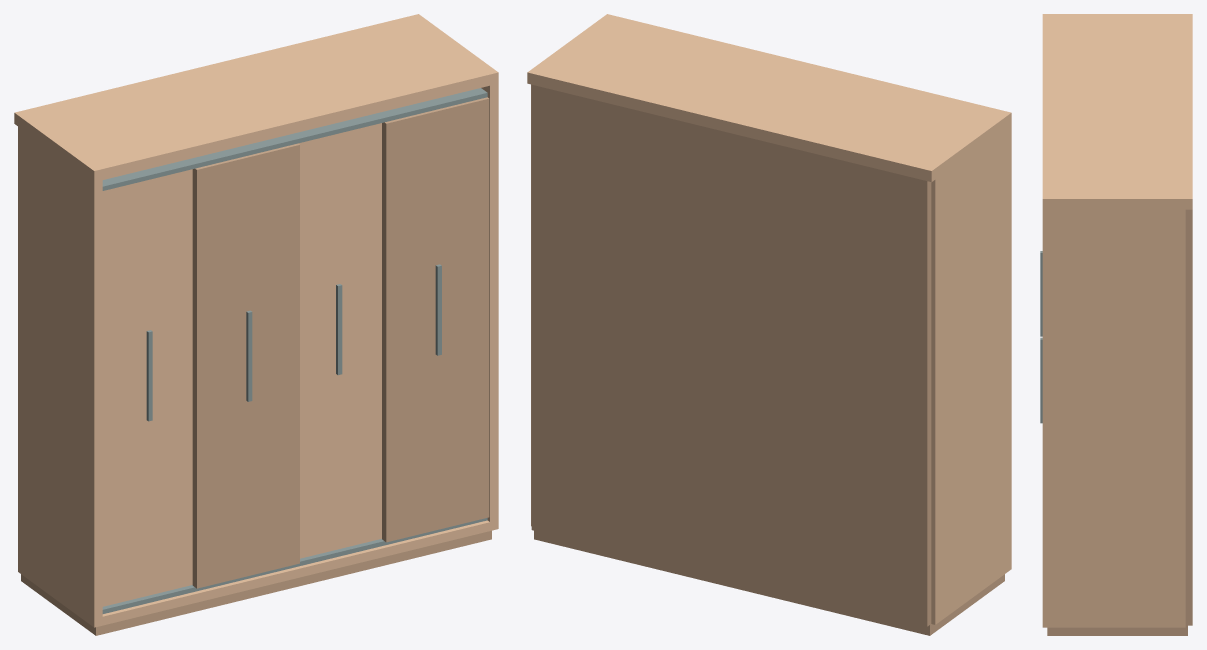
Rendered from wardrobeSliding.glb.
The picture shows the model from 3 angles, left to right: view 1: azimuth 30°, elevation 25°; view 2: azimuth 150°, elevation 25°; view 3: azimuth 270°, elevation 25°; orthographic projection. The views are drawn at different scales.
Visible parts, largest first — view 1: wardrobeSliding; view 2: wardrobeSliding; view 3: wardrobeSliding.
Boxes of the visible parts, x1,y1,x2,y2 form: wardrobeSliding: (14,14,498,635); wardrobeSliding: (527,14,1011,635); wardrobeSliding: (1040,14,1192,635).
Size of the model in its own units: 0.95 by 1.05 by 0.33.
